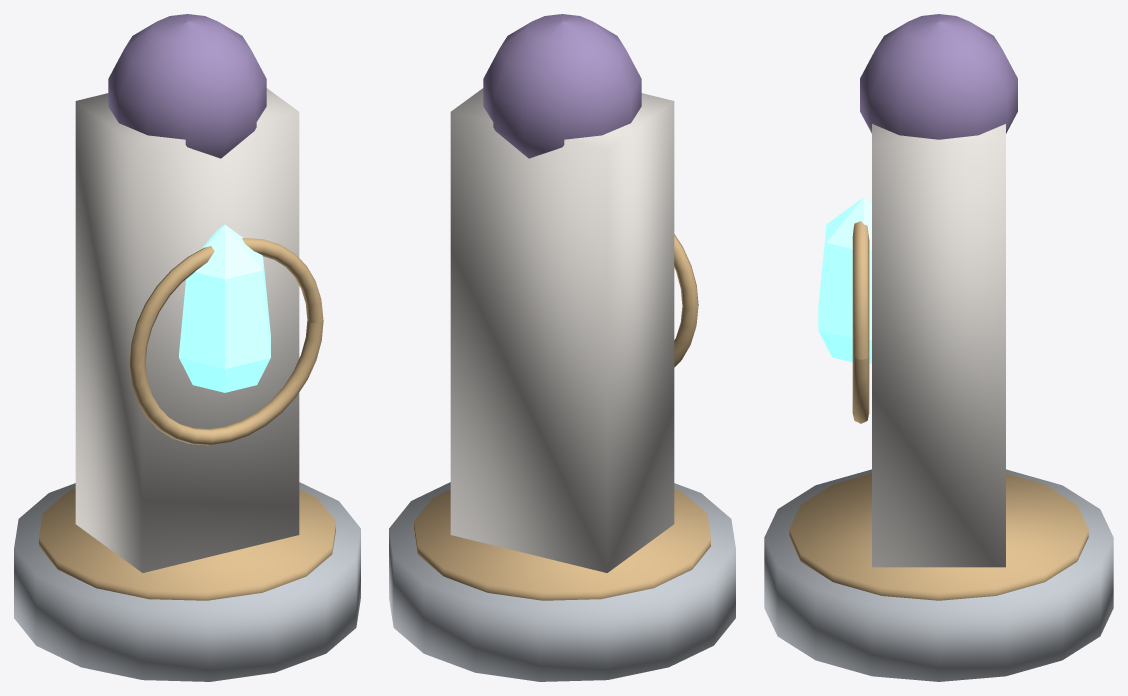
Rendered from prp_waystone_monolith.glb.
The picture shows the model from 3 angles, left to right: view 1: azimuth 30°, elevation 25°; view 2: azimuth 150°, elevation 25°; view 3: azimuth 270°, elevation 25°; orthographic projection.
Parts seen in each view (by area): view 1: PRP_waystone_monolith_upright, PRP_waystone_monolith_foot, PRP_waystone_monolith_crown, PRP_waystone_monolith_gold_ring, PRP_waystone_monolith_inset, PRP_waystone_monolith_note_ring; view 2: PRP_waystone_monolith_upright, PRP_waystone_monolith_foot, PRP_waystone_monolith_crown, PRP_waystone_monolith_gold_ring, PRP_waystone_monolith_note_ring; view 3: PRP_waystone_monolith_upright, PRP_waystone_monolith_foot, PRP_waystone_monolith_gold_ring, PRP_waystone_monolith_crown, PRP_waystone_monolith_inset, PRP_waystone_monolith_note_ring.
Part boxes in pixels (bbox=[...]): PRP_waystone_monolith_upright: bbox=[75, 88, 299, 572]; PRP_waystone_monolith_foot: bbox=[14, 482, 360, 681]; PRP_waystone_monolith_crown: bbox=[108, 14, 266, 158]; PRP_waystone_monolith_gold_ring: bbox=[39, 488, 335, 600]; PRP_waystone_monolith_inset: bbox=[179, 224, 270, 392]; PRP_waystone_monolith_note_ring: bbox=[129, 238, 323, 445]; PRP_waystone_monolith_upright: bbox=[450, 88, 674, 572]; PRP_waystone_monolith_foot: bbox=[389, 482, 735, 681]; PRP_waystone_monolith_crown: bbox=[483, 14, 641, 158]; PRP_waystone_monolith_gold_ring: bbox=[414, 488, 710, 600]; PRP_waystone_monolith_note_ring: bbox=[674, 234, 698, 367]; PRP_waystone_monolith_upright: bbox=[872, 124, 1005, 567]; PRP_waystone_monolith_foot: bbox=[764, 469, 1113, 681]; PRP_waystone_monolith_gold_ring: bbox=[789, 473, 1088, 600]; PRP_waystone_monolith_crown: bbox=[860, 14, 1017, 139]; PRP_waystone_monolith_inset: bbox=[818, 197, 871, 363]; PRP_waystone_monolith_note_ring: bbox=[852, 221, 869, 423].
Bounding box in the file's own units: 1.12 × 2.07 × 1.12.
